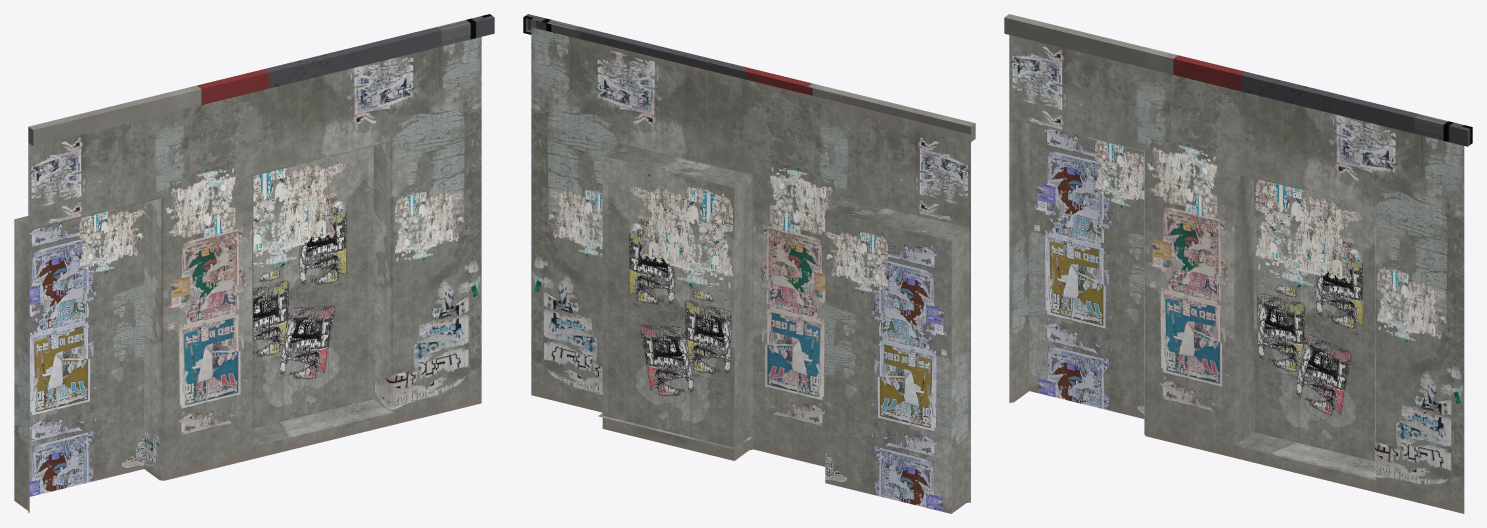
The model's file is sm_groundfloor_wall.glb.
3 views of the same model, side by side, from view 1: azimuth 30°, elevation 25°; view 2: azimuth 150°, elevation 25°; view 3: azimuth 330°, elevation 25° (orthographic). The views are drawn at different scales.
Visible parts, largest first — view 1: sm_groundfloor_wall; view 2: sm_groundfloor_wall; view 3: sm_groundfloor_wall.
Boxes of the visible parts, left/top/right/bottom form: sm_groundfloor_wall: left=14, top=14, right=494, bottom=513; sm_groundfloor_wall: left=523, top=14, right=975, bottom=513; sm_groundfloor_wall: left=1004, top=14, right=1472, bottom=513.
Size of the model in its own units: 5.09 by 4.08 by 0.4613.
Materials: 2 (2 with a texture image).
